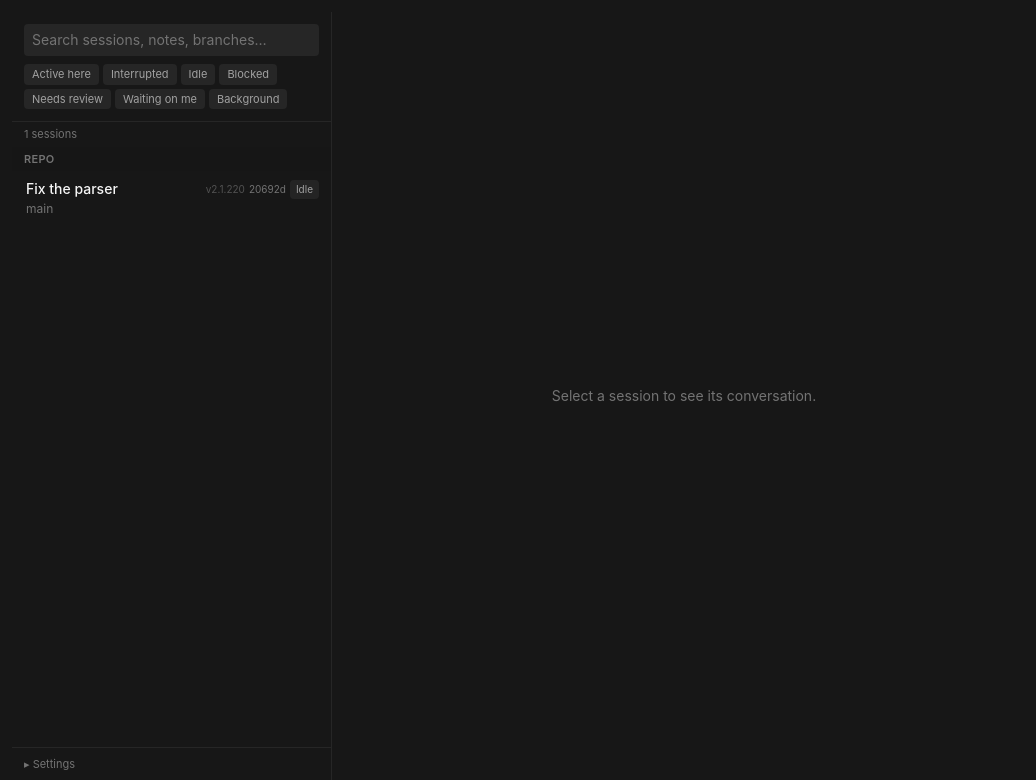
Test case: App › tells the user when a note fails to save
Click the text "Fix the parser": (72, 189) x1=26 y1=179 x2=118 y2=199
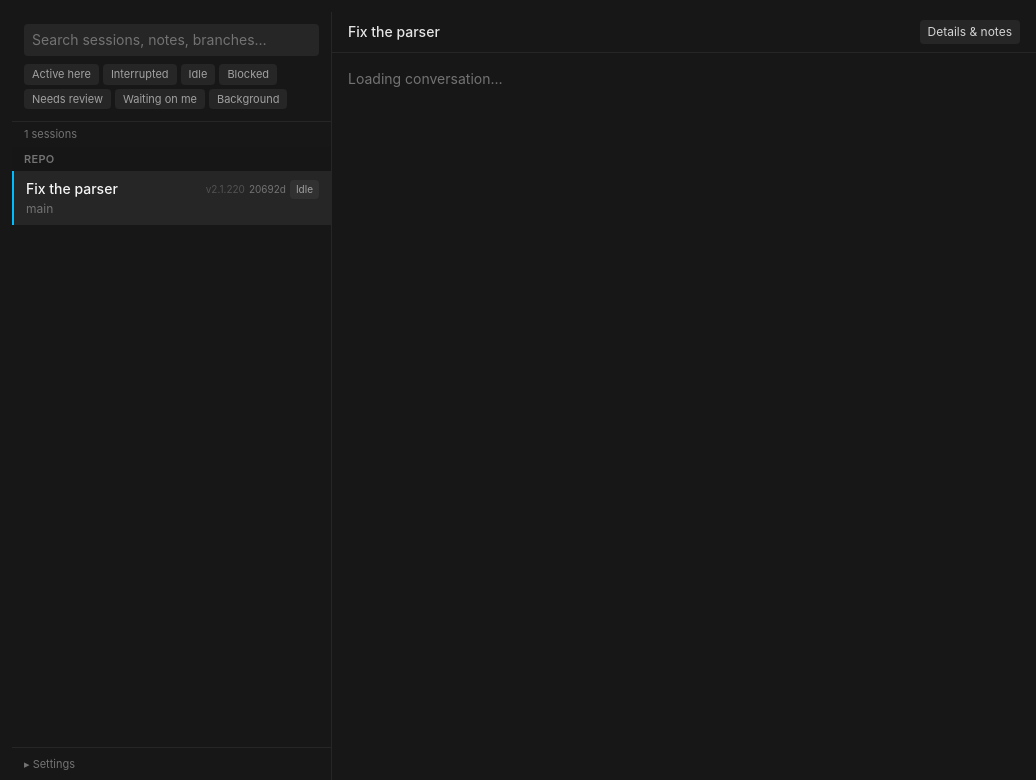
Click the button "Details & notes": (970, 32) x1=920 y1=20 x2=1020 y2=44
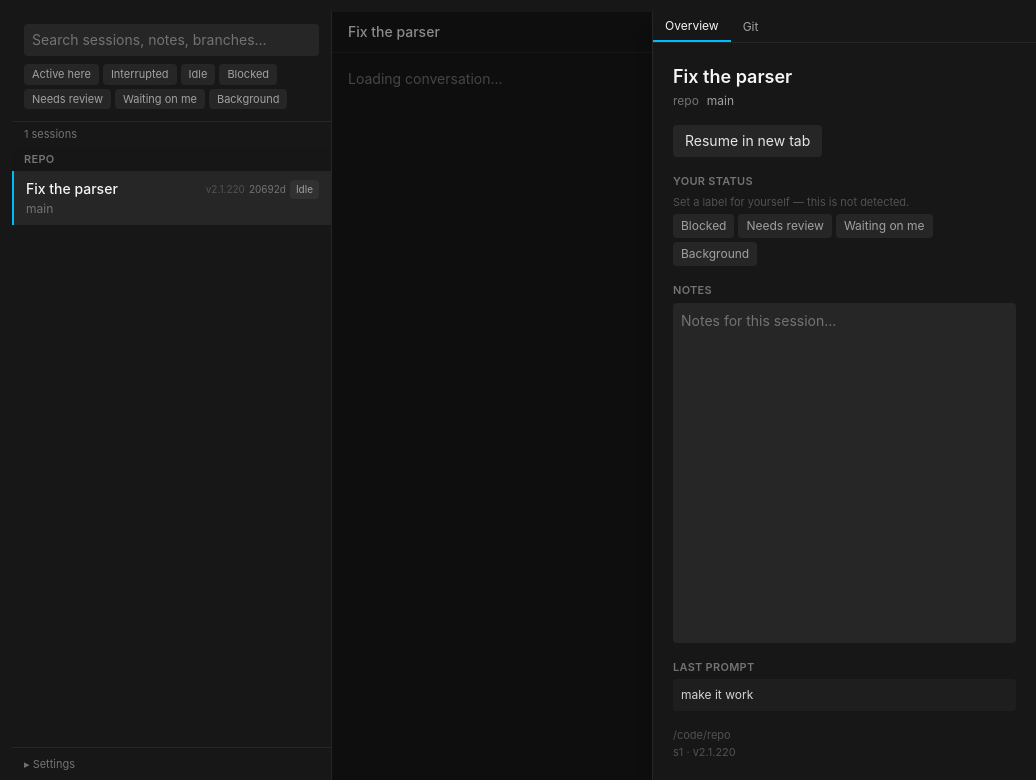
In the text box with placeholder "Notes for this session…": (844, 472) x1=673 y1=302 x2=1016 y2=642, type "x"
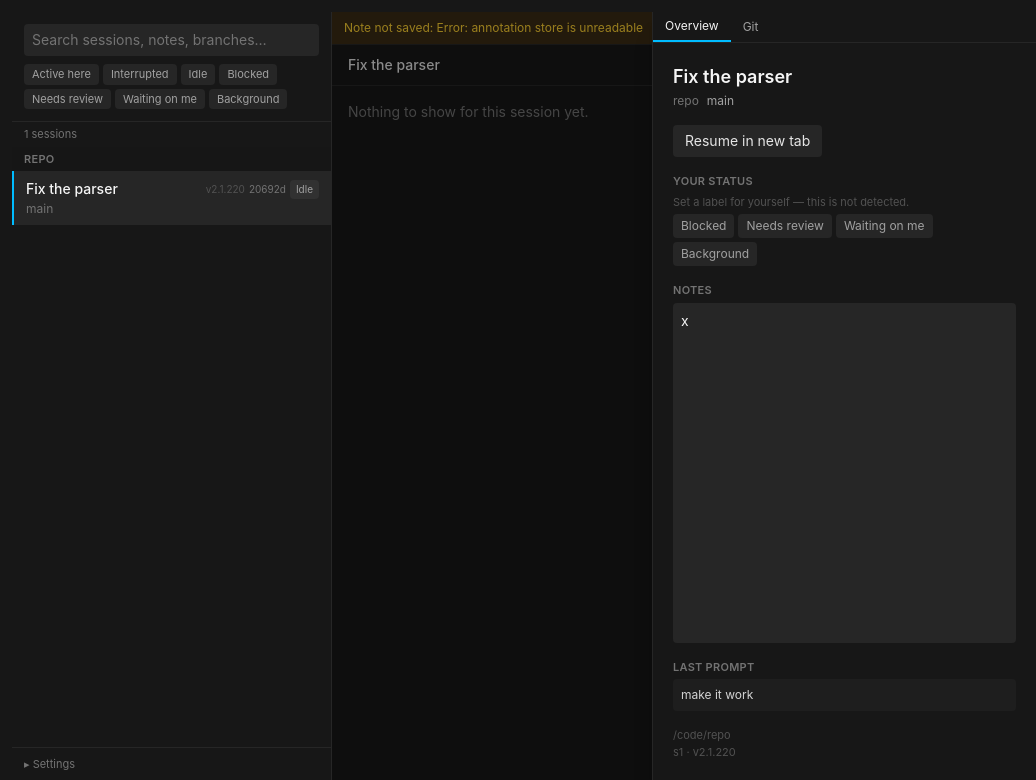
Expected: the message "Note not saved: Error: annotation store is unreadable" is shown, x1=332 y1=12 x2=1035 y2=45
